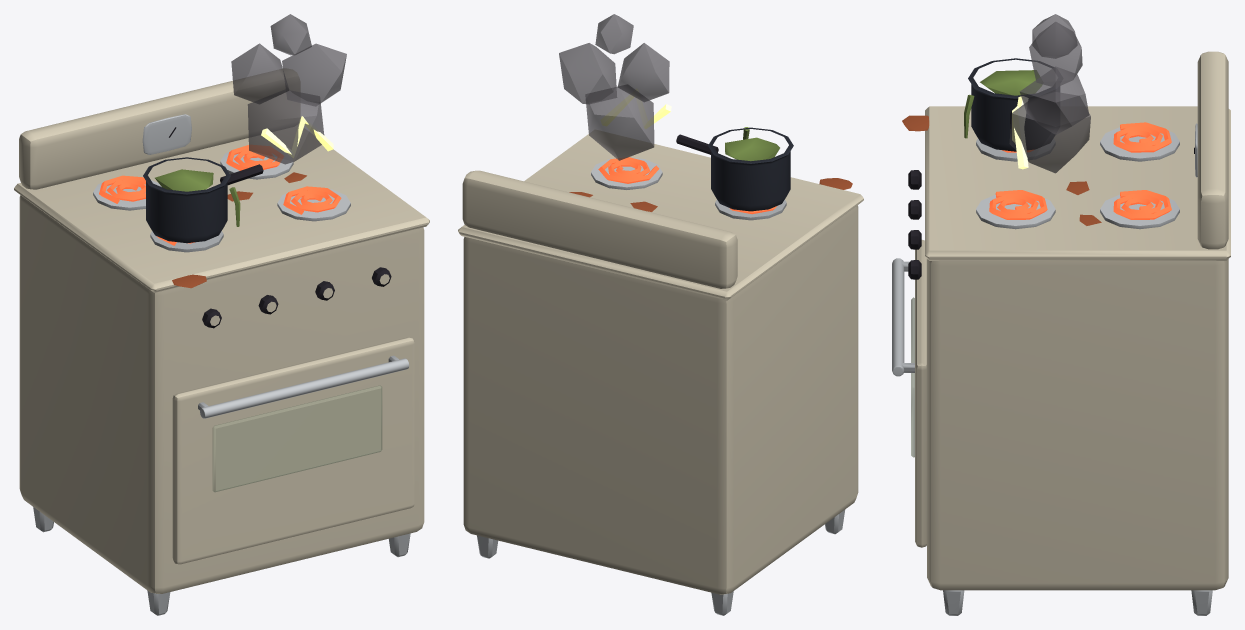
The model's file is stove_greasefire.glb.
3 views of the same model, side by side, from view 1: azimuth 30°, elevation 25°; view 2: azimuth 150°, elevation 25°; view 3: azimuth 270°, elevation 25° (orthographic). The views are drawn at different scales.
Visible parts, largest first — view 1: stove_greasefire, broken, flame; view 2: stove_greasefire, broken, flame; view 3: stove_greasefire, broken, flame.
Part boxes in pixels (x1,y1,x2,y2): stove_greasefire: (14,68,429,615); broken: (231,14,346,164); flame: (99,145,341,245); stove_greasefire: (458,127,863,615); broken: (559,14,671,160); flame: (598,157,776,214); stove_greasefire: (892,51,1230,615); broken: (1009,14,1090,173); flame: (989,122,1171,219).
Size of the model in its own units: 0.79 by 1.41 by 0.764.
